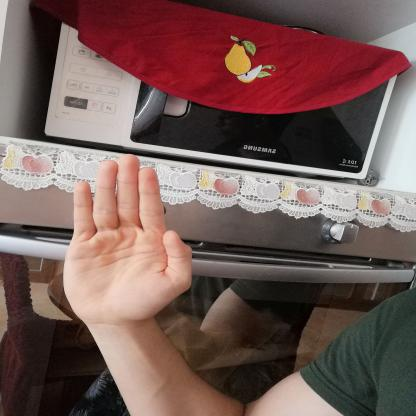SEEN: (54, 146, 206, 328)
